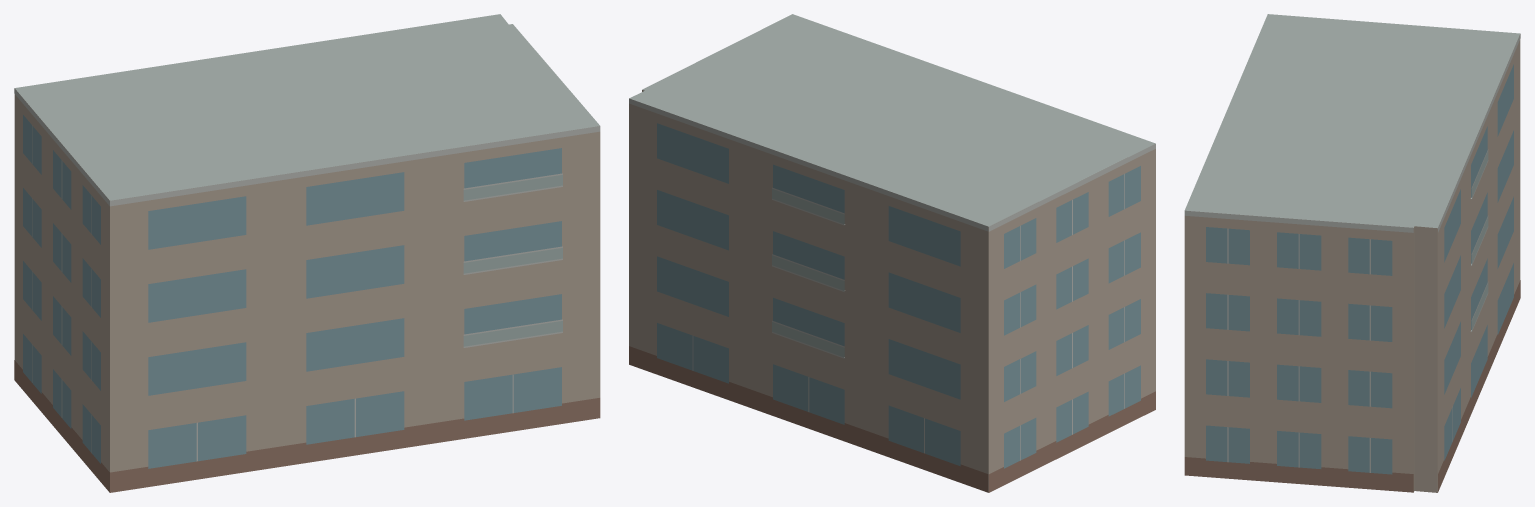
The model's file is survey-upis-32927492.glb.
3 views of the same model, side by side, from view 1: azimuth 30°, elevation 25°; view 2: azimuth 150°, elevation 25°; view 3: azimuth 270°, elevation 25° (orthographic). The views are drawn at different scales.
Visible parts, largest first — view 1: survey-upis-32927492.tmp; view 2: survey-upis-32927492.tmp; view 3: survey-upis-32927492.tmp.
Boxes of the visible parts, x1,y1,x2,y2 form: survey-upis-32927492.tmp: (14,14,600,492); survey-upis-32927492.tmp: (629,14,1155,492); survey-upis-32927492.tmp: (1184,14,1520,492).
Size of the model in its own units: 22.04 by 12.7 by 14.61.
